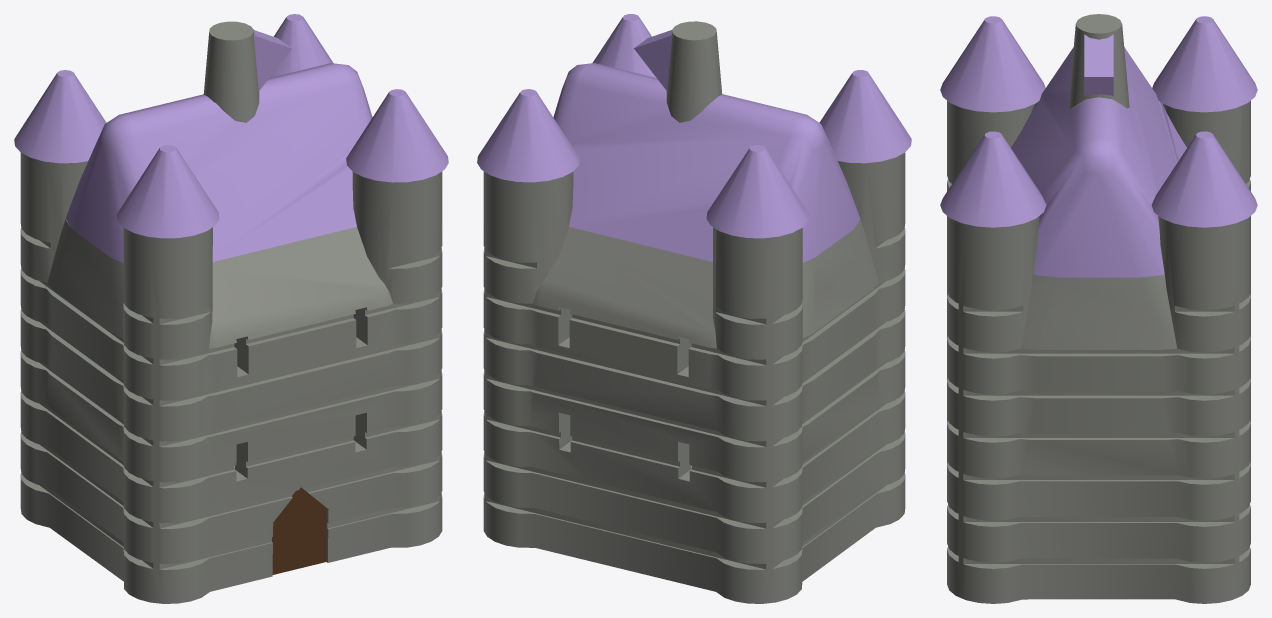
File: festung_lavendel.glb
3 renders of one model, left to right at view 1: azimuth 30°, elevation 25°; view 2: azimuth 150°, elevation 25°; view 3: azimuth 270°, elevation 25°, orthographic. The views are drawn at different scales.
Visible parts, largest first — view 1: festung_lavendel; view 2: festung_lavendel; view 3: festung_lavendel.
Part boxes in pixels (left/top/right/bottom): festung_lavendel: left=14, top=14, right=448, bottom=603; festung_lavendel: left=477, top=14, right=911, bottom=603; festung_lavendel: left=940, top=14, right=1257, bottom=603.
Size of the model in its own units: 19.6 by 28.7 by 16.43.
